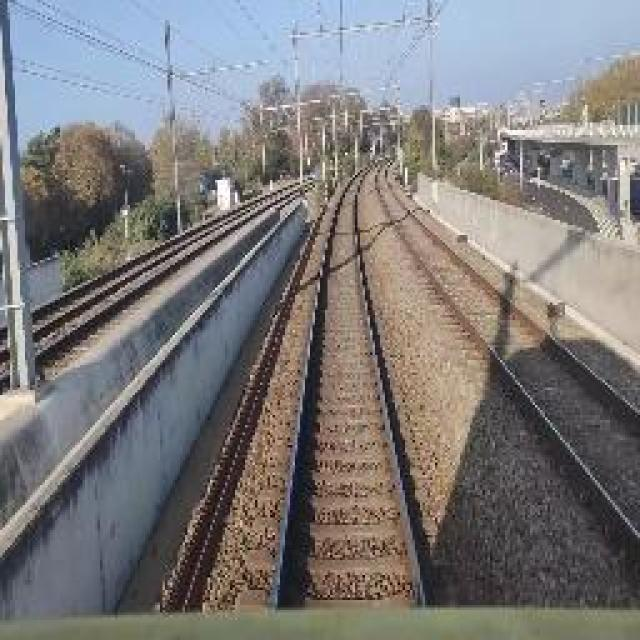rail: (238, 157, 457, 616)
